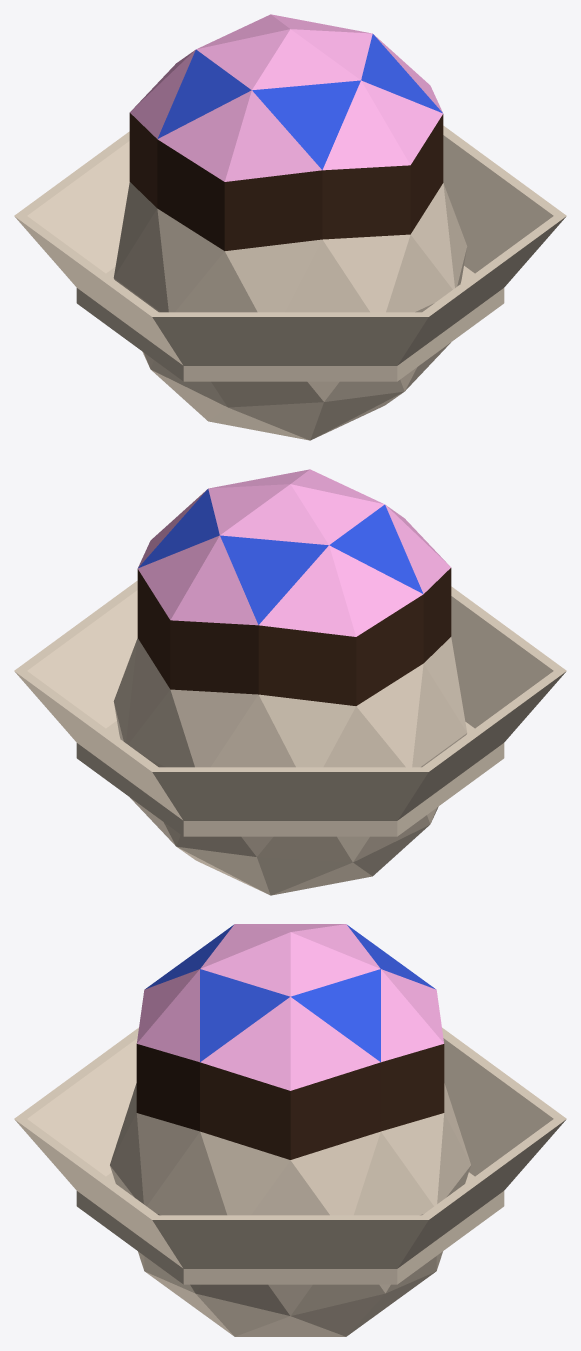
The model's file is CupCake.fbx.
3 views of the same model, one above another, from view 1: azimuth 30°, elevation 25°; view 2: azimuth 150°, elevation 25°; view 3: azimuth 270°, elevation 25° (orthographic).
Visible parts, largest first — view 1: Muffin; view 2: Muffin; view 3: Muffin.
Part boxes in pixels (x1,y1,x2,y2): Muffin: (14, 14, 566, 440); Muffin: (14, 469, 566, 895); Muffin: (14, 924, 566, 1336).
Size of the model in its own units: 0.2199 by 0.201 by 0.254.
